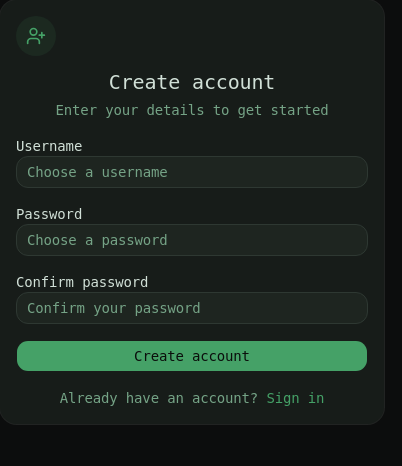
Test: register page › shows error when passwords do not match
This screenshot has width=402, height=466.
Type "testuser" into the field labelled "Username" at coordinates (192, 172), box [16,156,368,188]
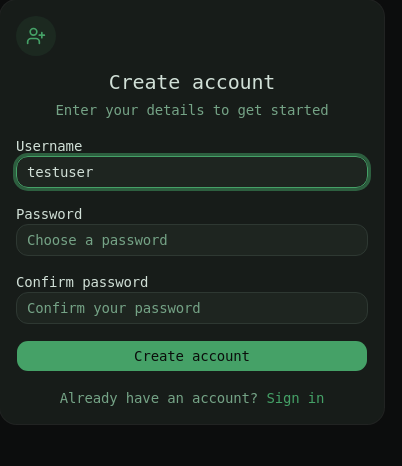
Type "password123" into the password field labelled "Password" at coordinates (192, 240), box [16,224,368,256]
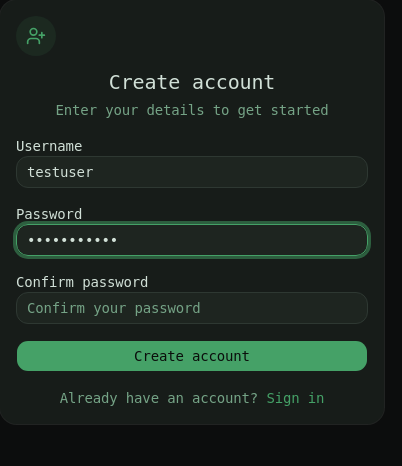
Type "different" into the password field labelled "Confirm password" at coordinates (192, 308), box [16,292,368,324]
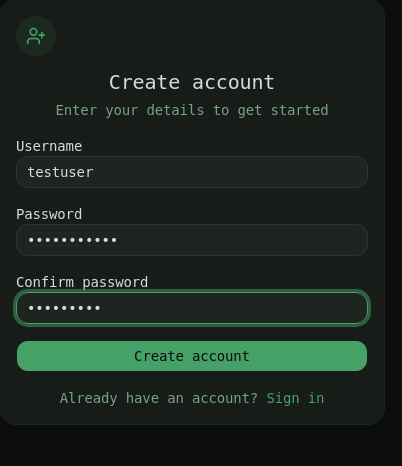
Click the button "Create account" at coordinates (192, 356), box [16,340,368,372]
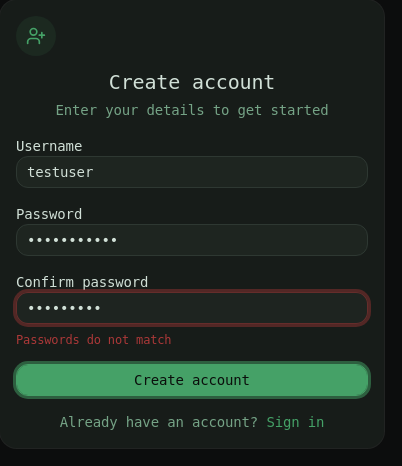
Check: the text "Passwords do not match" is shown, box [16,333,171,347]
